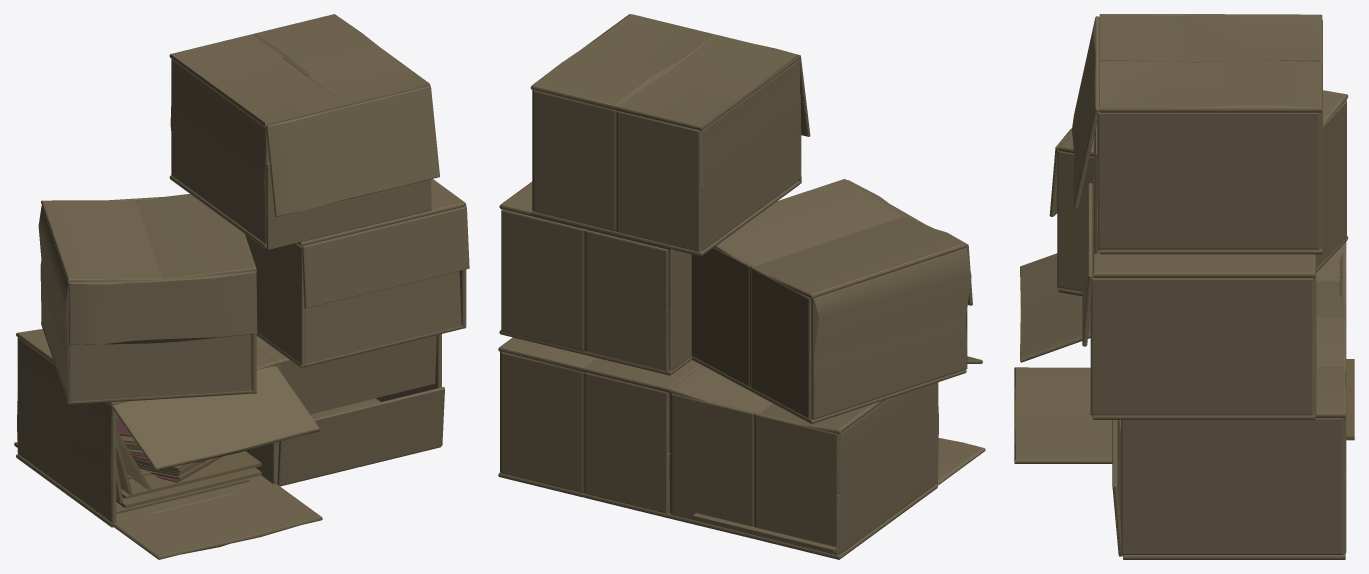
Rendered from yasch.fbx.
The picture shows the model from 3 angles, left to right: view 1: azimuth 30°, elevation 25°; view 2: azimuth 150°, elevation 25°; view 3: azimuth 270°, elevation 25°; orthographic projection. The views are drawn at different scales.
Visible parts, largest first — view 1: Plane.000; view 2: Plane.000; view 3: Plane.000.
Boxes of the visible parts, <box> form: Plane.000: <box>14,14,469,559</box>; Plane.000: <box>498,14,985,559</box>; Plane.000: <box>1014,14,1354,559</box>.
Size of the model in its own units: 252 by 239 by 167.
